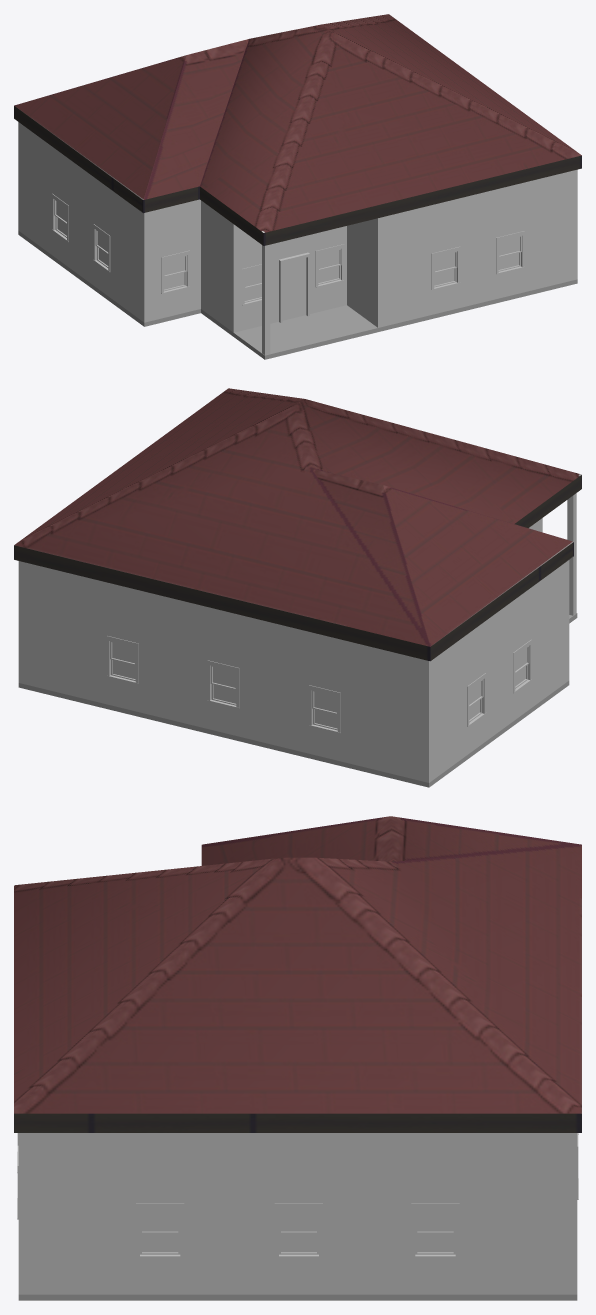
Rendered from House3.fbx.
3 views of the same model, one above another, from view 1: azimuth 30°, elevation 25°; view 2: azimuth 150°, elevation 25°; view 3: azimuth 270°, elevation 25° (orthographic). The views are drawn at different scales.
Parts seen in each view (by area): view 1: H3Roof, H3Walls, H3Windows, H3Foundation; view 2: H3Roof, H3Walls, H3Windows, H3Foundation; view 3: H3Roof, H3Walls, H3Windows, H3Foundation.
Part boxes in pixels (x1,y1,x2,y2): H3Roof: (14, 14, 581, 245); H3Walls: (18, 122, 577, 332); H3Windows: (52, 193, 524, 355); H3Foundation: (18, 230, 577, 359); H3Roof: (14, 388, 581, 661); H3Walls: (18, 518, 569, 782); H3Windows: (106, 493, 576, 733); H3Foundation: (18, 613, 577, 787); H3Roof: (14, 816, 581, 1132); H3Walls: (18, 1133, 577, 1294); H3Windows: (17, 1133, 578, 1257); H3Foundation: (18, 1294, 577, 1300).
Size of the model in its own units: 547 by 313 by 488.
